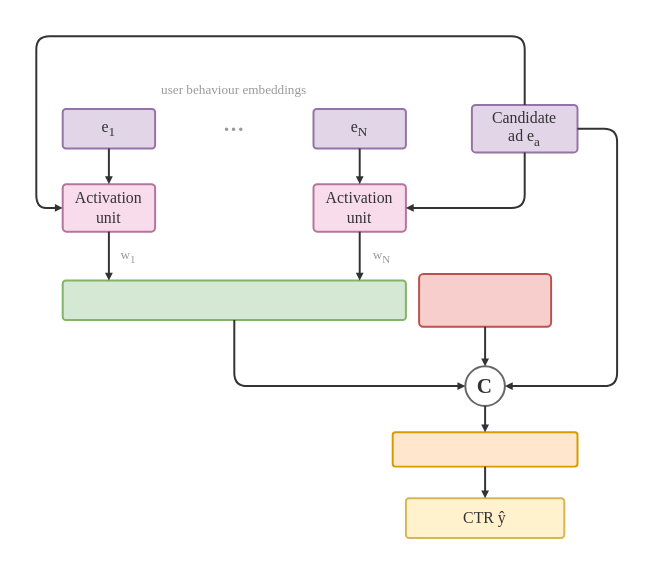
Image size: 652x573. Some labels were removed from this diagram. The centre of each missing label's shape, as x and y in pixels:
MLP (PReLU / Dice): [484,449]
Profile + context: [484,299]
Weighted sum pooling Σ i w i e i: [233,299]
